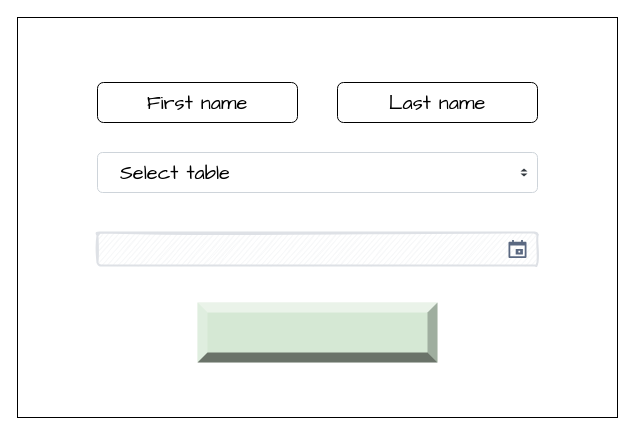
This 635x435 diagram has some shape labels left out. Each missing label, with the box of its shape:
Book: (196, 302, 438, 362)
Select date: (96, 231, 538, 266)
